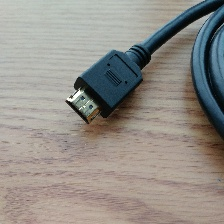hdmi_male: (61, 70, 153, 154)
